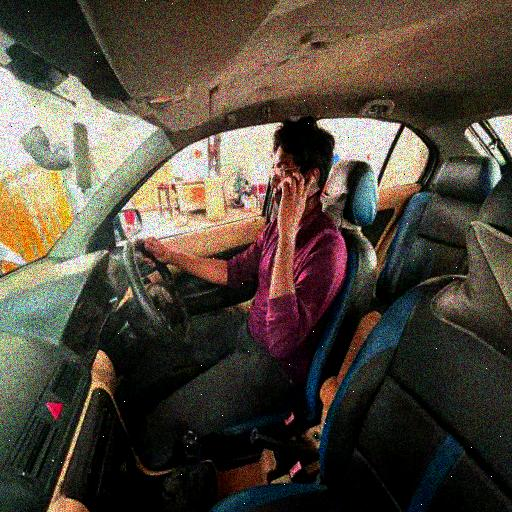Talking_on_phone: (152, 120, 346, 361)
